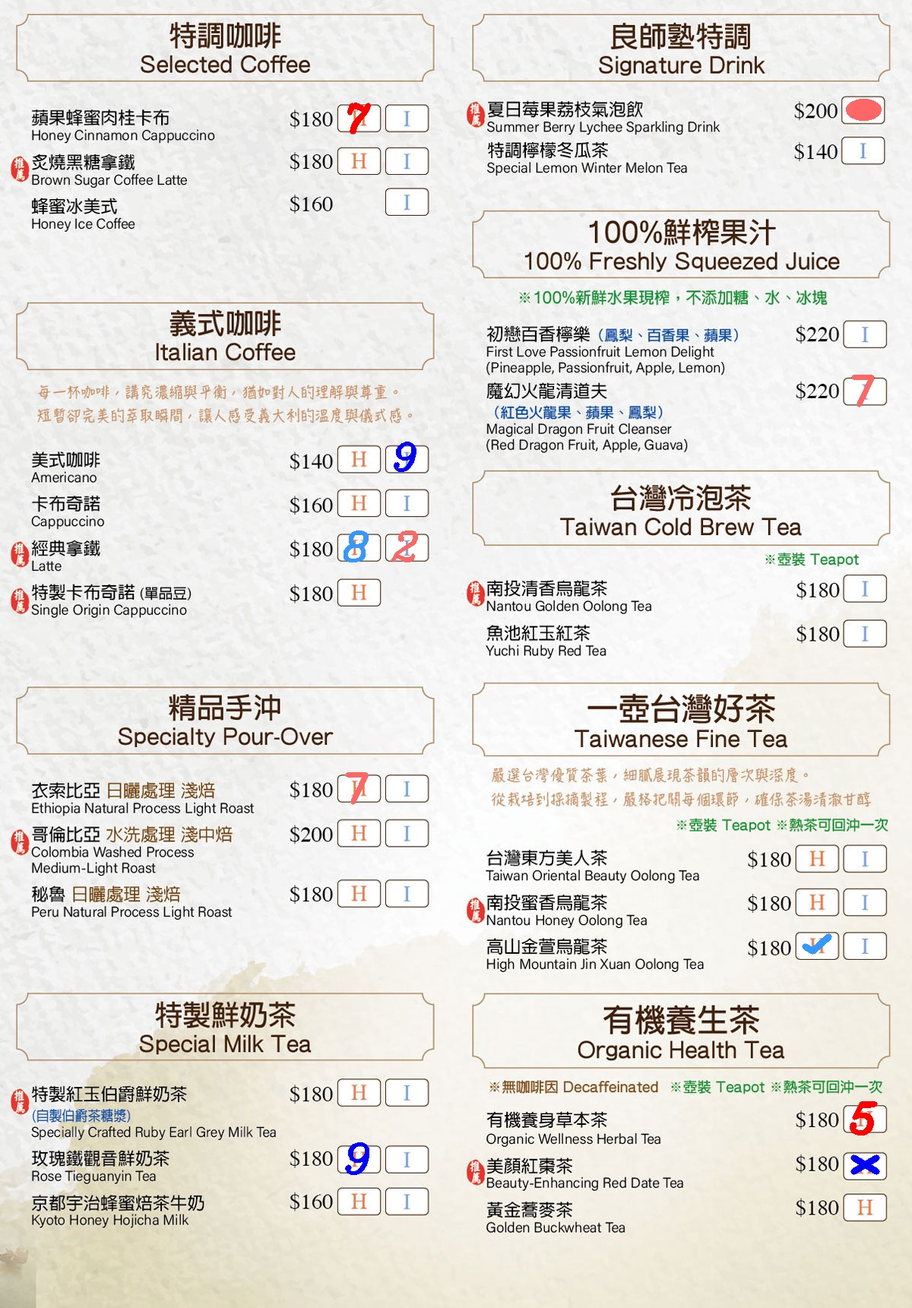marked_circle: (844, 98, 883, 122)
marked_number_2: (388, 535, 426, 559)
marked_number_5: (846, 1106, 885, 1129)
marked_number_7: (845, 378, 884, 402), (339, 776, 378, 800), (339, 106, 378, 129)
marked_number_8: (339, 535, 378, 559)
marked_number_9: (340, 1146, 379, 1170), (388, 446, 426, 470)
marked_tick: (798, 933, 837, 956)
marked_x: (846, 1153, 885, 1177)
